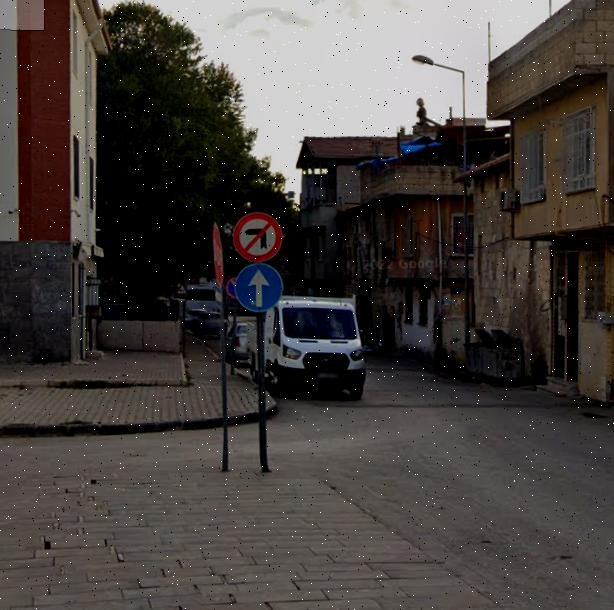forward: (235, 266, 284, 312)
leftturnsareforbidden: (235, 213, 282, 259)
